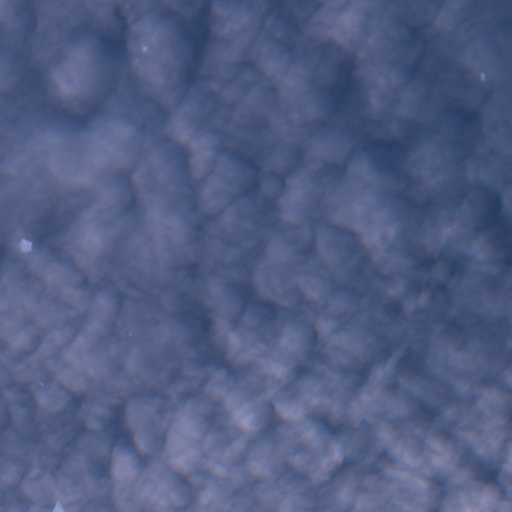Iceberg: (20, 237, 33, 252), (52, 501, 64, 511), (481, 73, 485, 80), (142, 46, 147, 50), (129, 333, 131, 335), (41, 383, 42, 385)
